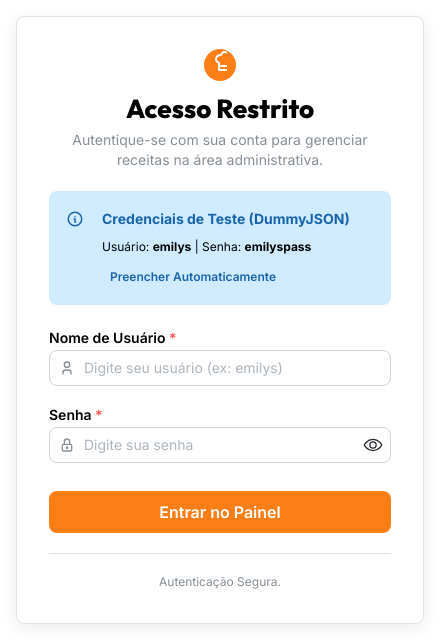
Test case: LoginPage Component › preenche automaticamente as credenciais ao clicar no botão de teste da DummyJSON
Click the button "Preencher Automaticamente": (193, 277) [102,266,284,288]
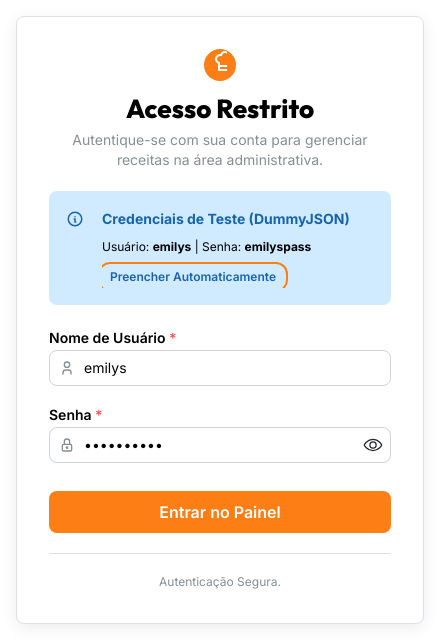
Expected: the field labelled "Nome de Usuário *" holds "emilys", [49,350,391,386]
Expected: the password field labelled "Senha *" holds "emilyspass", [50,428,390,462]
